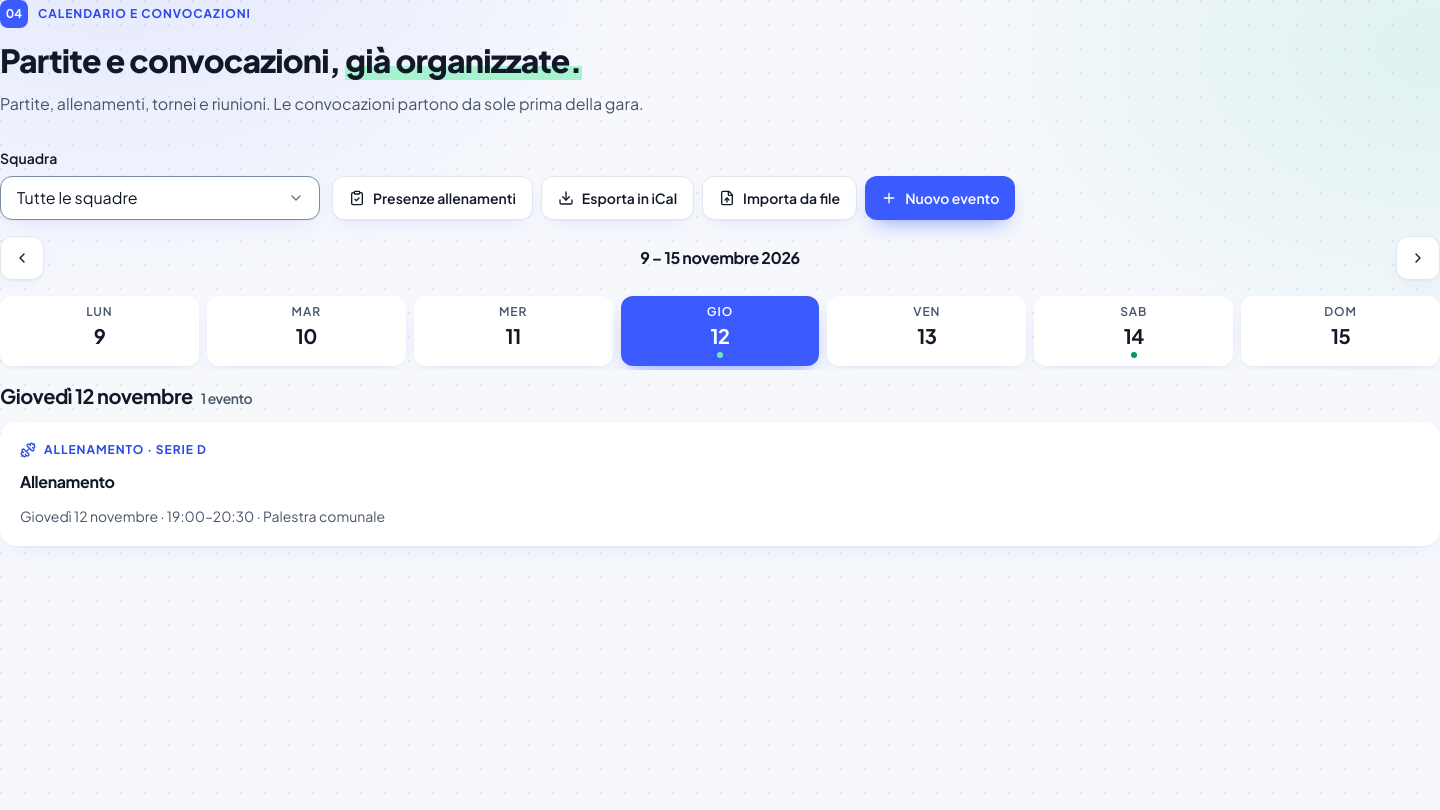
Test case: event detail and squad › says so in every group that is empty
Click the button named "sab 14 novembre, con eventi" at {"x": 1134, "y": 331}, box left=1034, top=296, right=1233, bottom=366
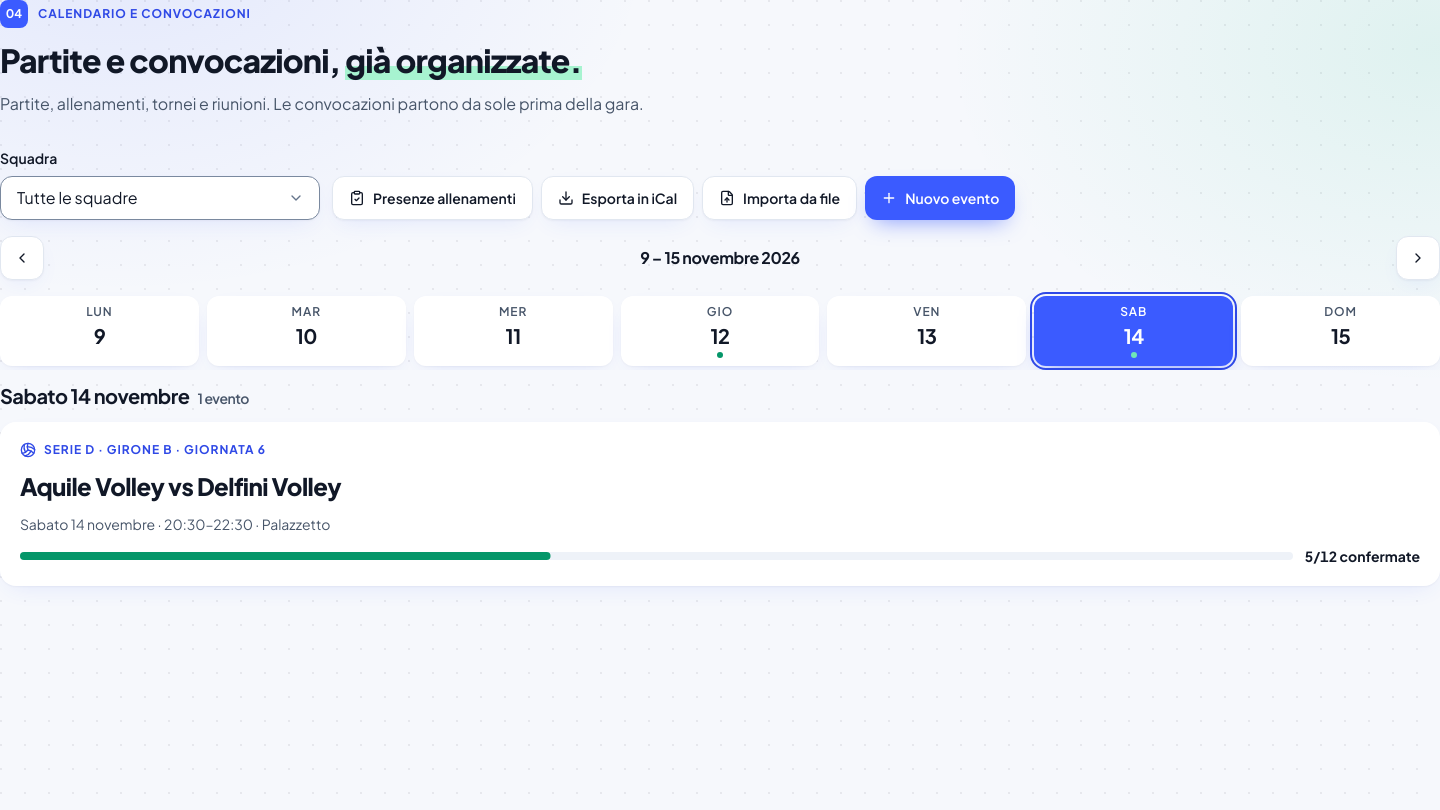
Click the button "Aquile Volley vs Delfini Volley" at {"x": 181, "y": 486}, box left=20, top=470, right=341, bottom=502
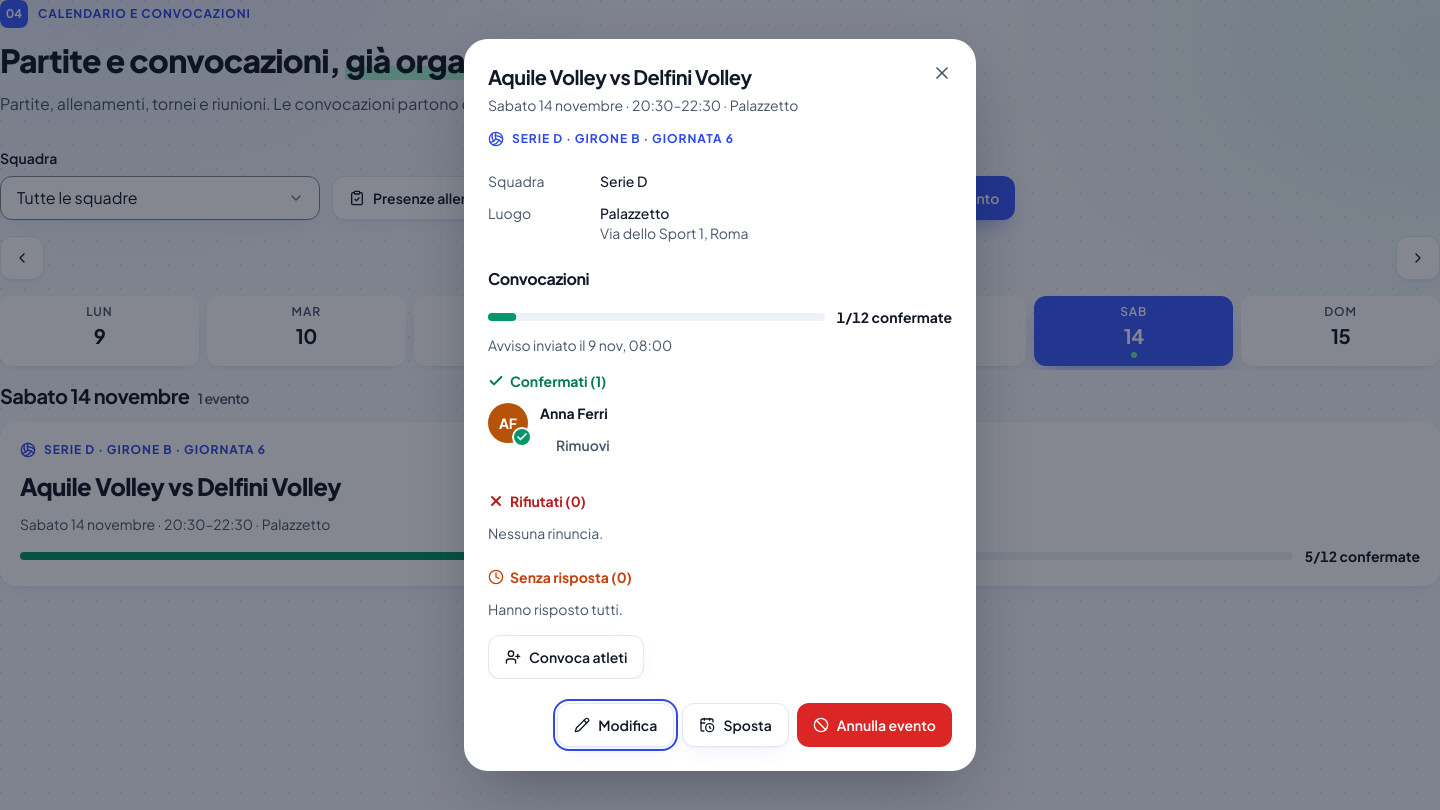
Check: the heading "Rifiutati (0)" is shown, box left=488, top=492, right=586, bottom=510
Check: the text "Nessuna rinuncia." is shown, box left=488, top=524, right=603, bottom=542
Check: the heading "Senza risposta (0)" is shown, box left=488, top=568, right=632, bottom=586
